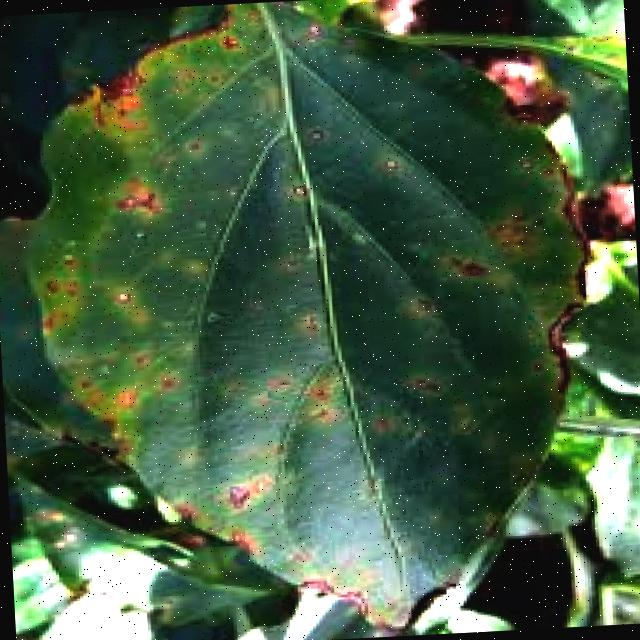leaf spot: (4, 0, 617, 640)
